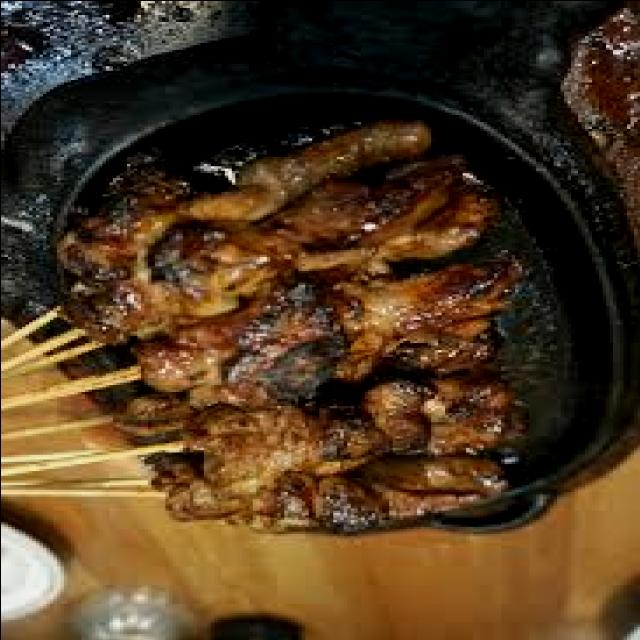sate: (0, 116, 521, 533)
